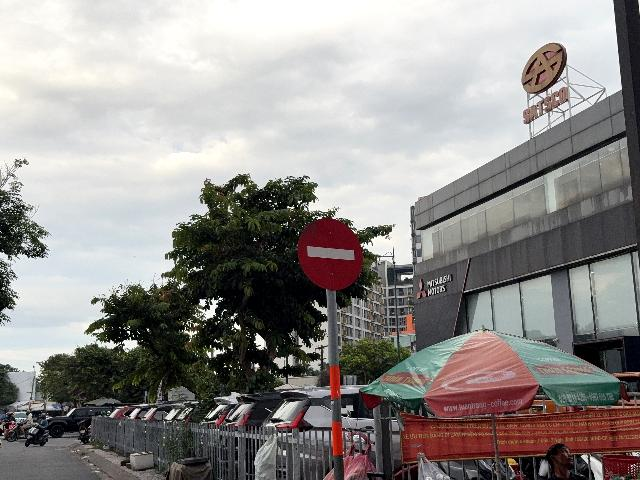cam-di-nguoc-chieu: (297, 217, 363, 290)
